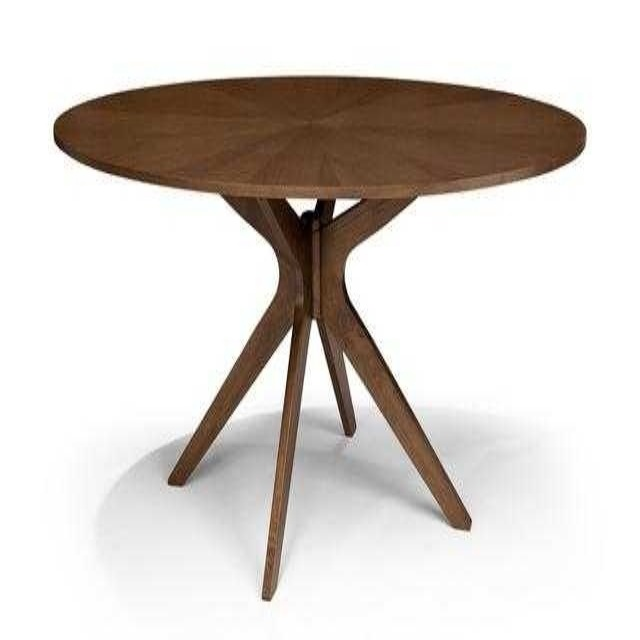obstacle: (54, 77, 585, 598)
